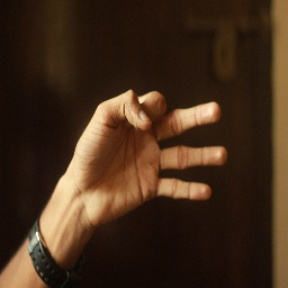K: (73, 90, 222, 216)
